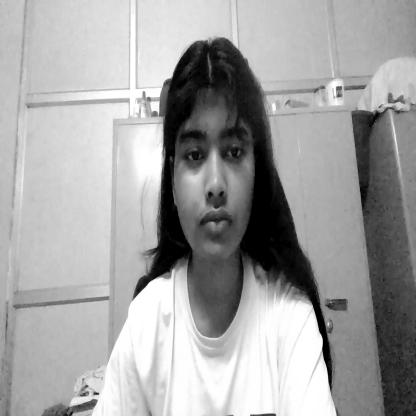Normal: (168, 43, 266, 274)
